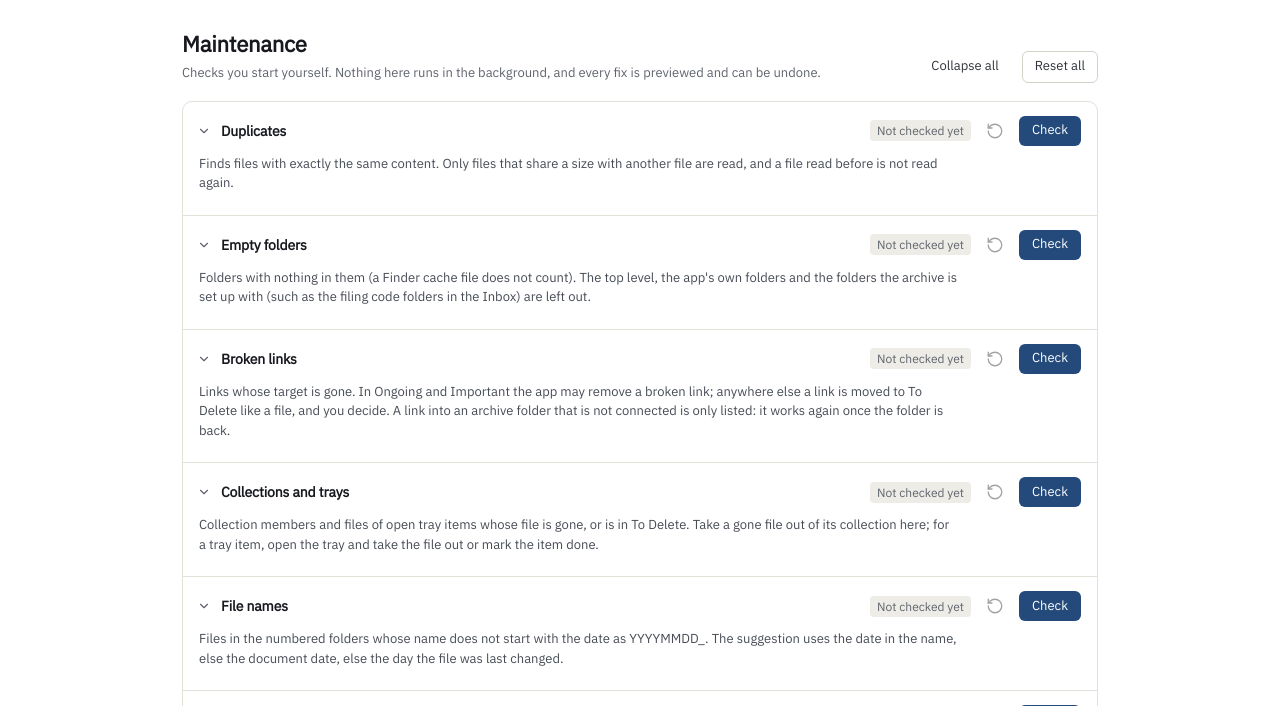
Test: Maintenance › says what a check found and when, and Reset all forgets both
Click the button "Check" in the row of "Empty folders" at (1050, 245), box left=1019, top=230, right=1081, bottom=260
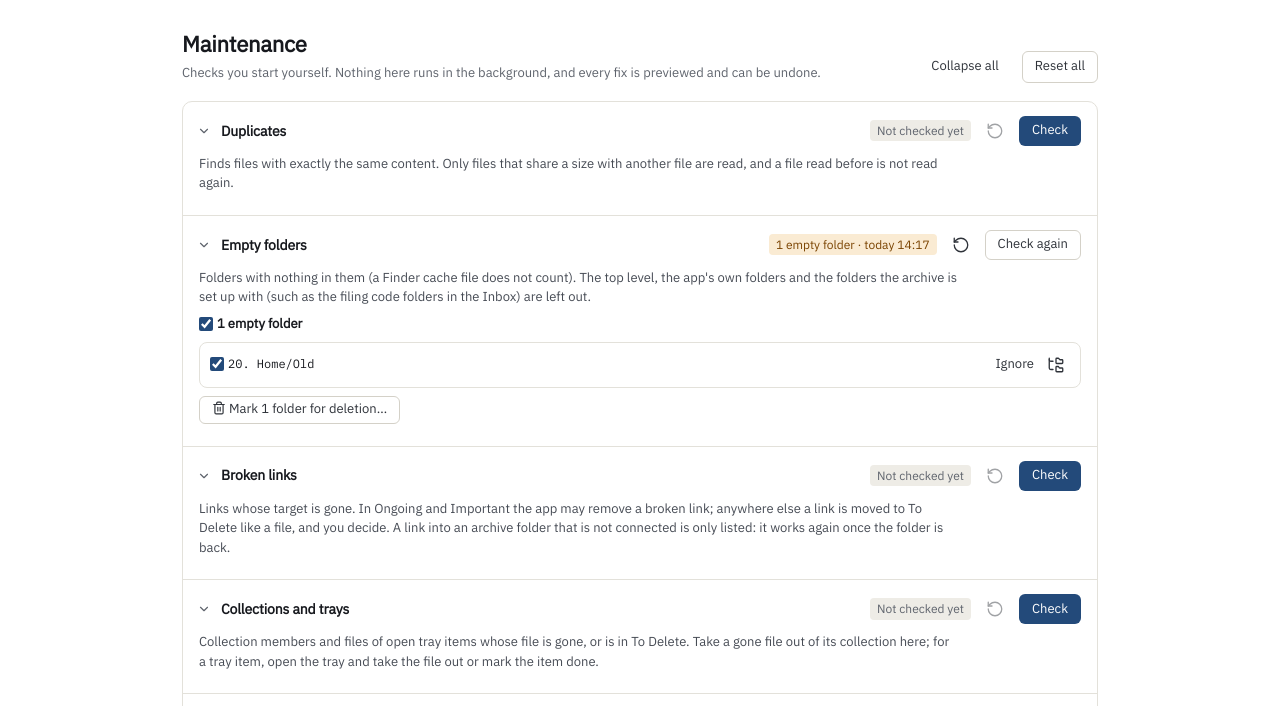
expect the button "Check again" is shown: met, box left=985, top=230, right=1081, bottom=260
Click the button "Reset all" at (1060, 67), box left=1022, top=51, right=1098, bottom=83
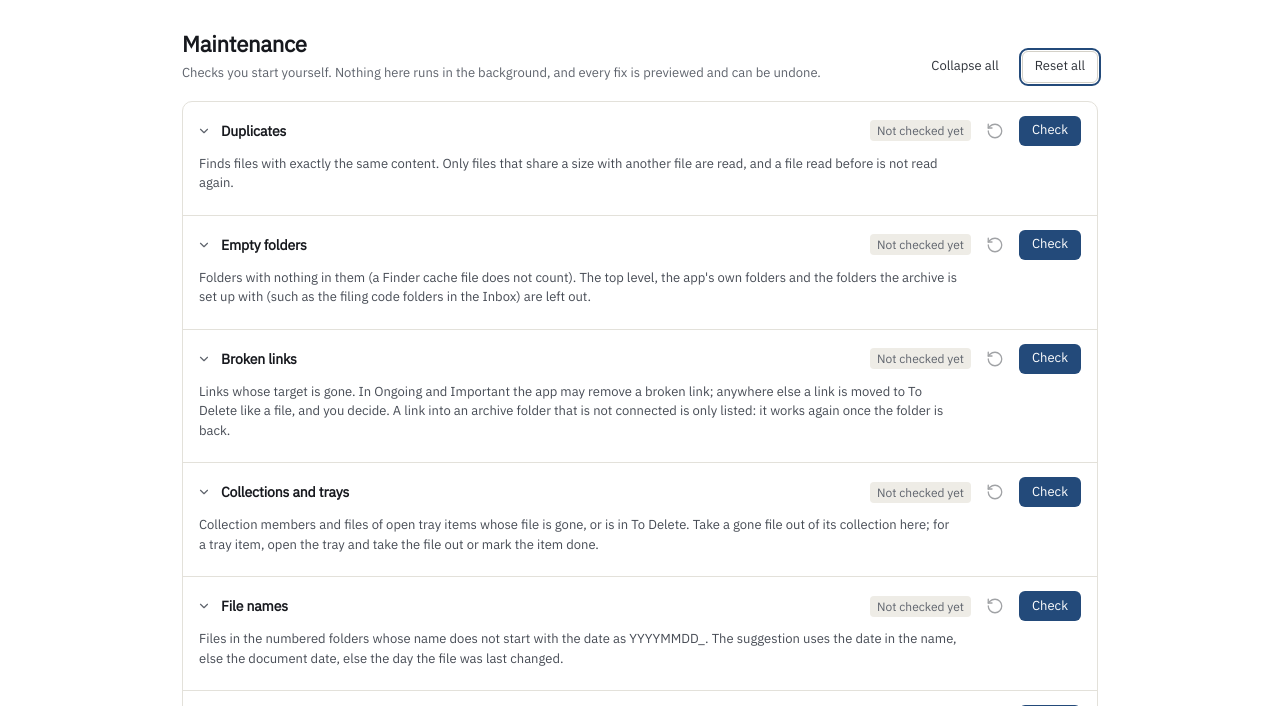
expect the text "Not checked yet" in the row of "Empty folders" is shown: met, box left=877, top=237, right=964, bottom=252
